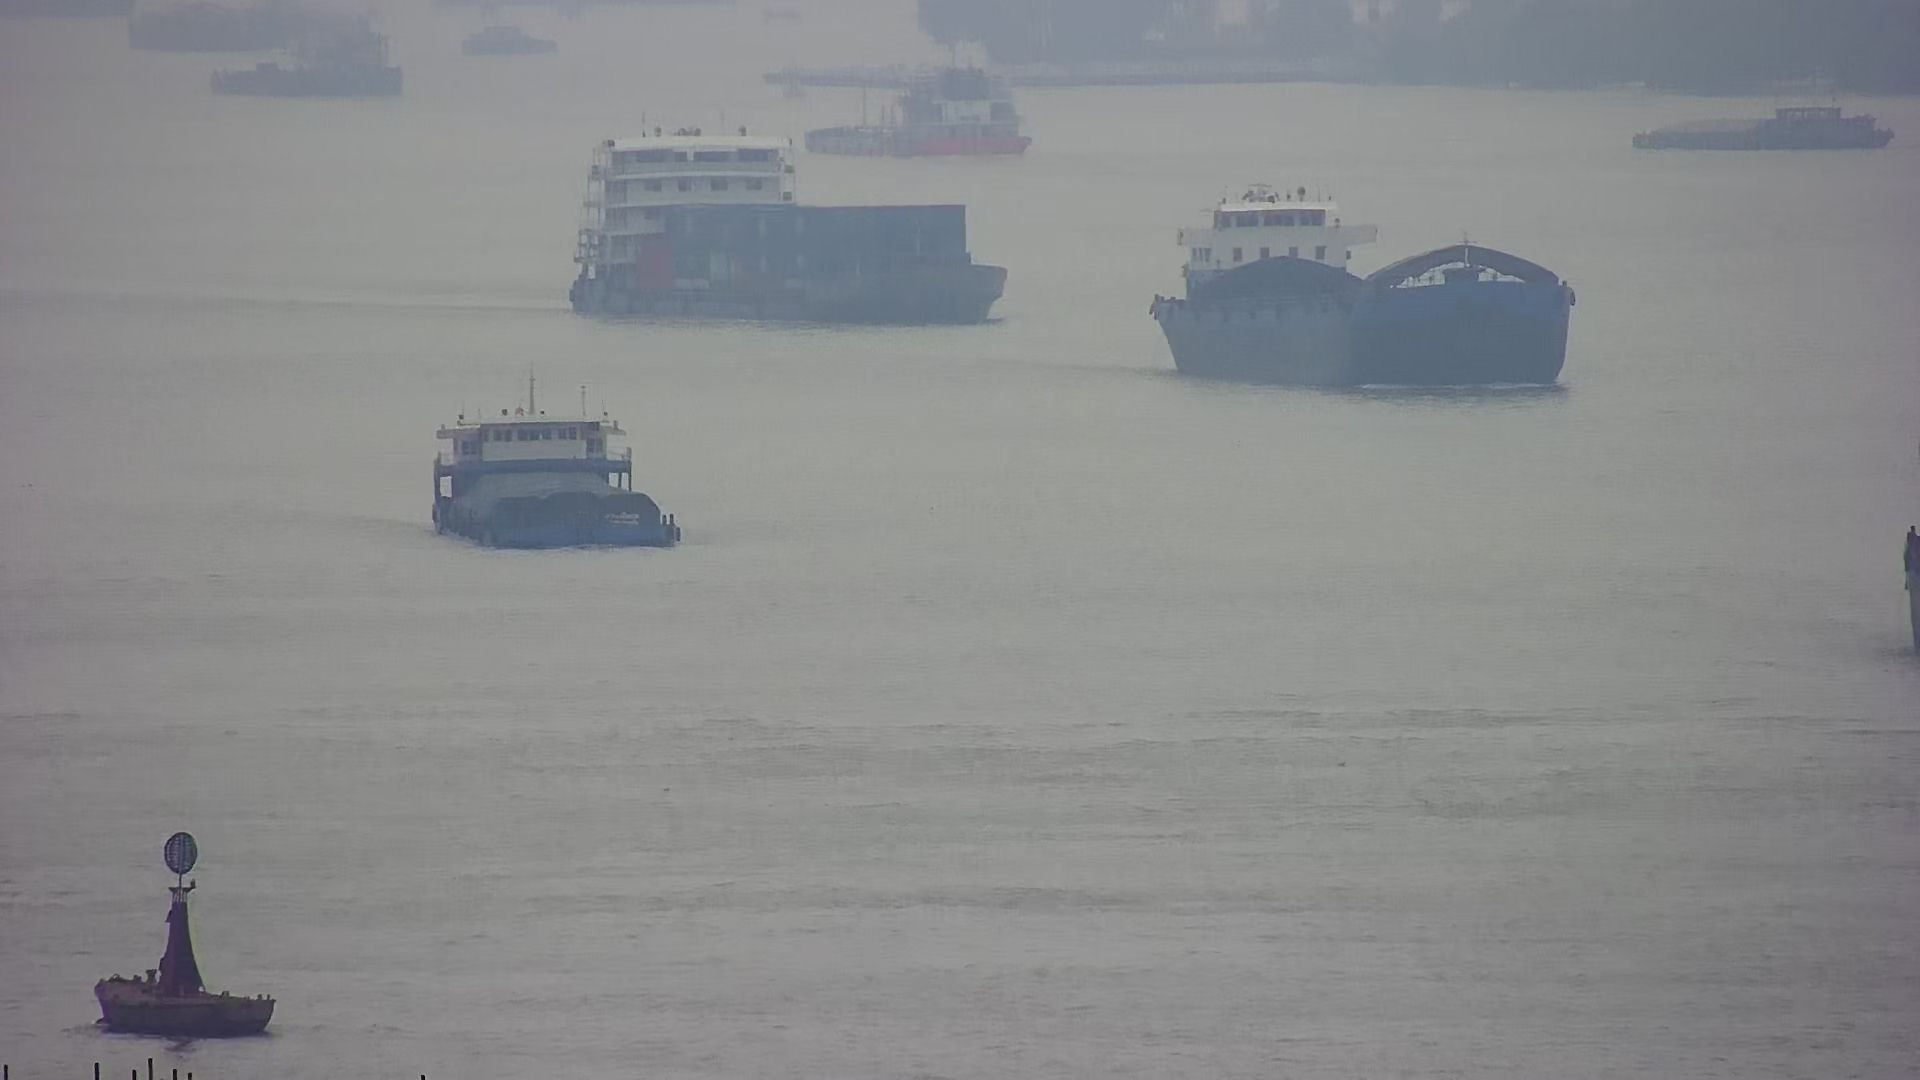boat: (103, 831, 276, 1040)
ship: (1135, 190, 1576, 400), (568, 133, 1007, 326), (427, 396, 686, 554), (795, 79, 1036, 160), (1636, 99, 1900, 160), (1892, 505, 1920, 659)
